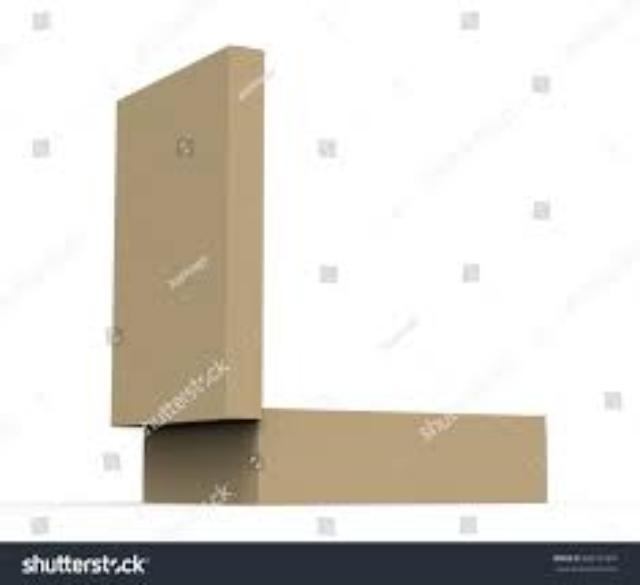cardboard paper: (109, 46, 550, 512)
